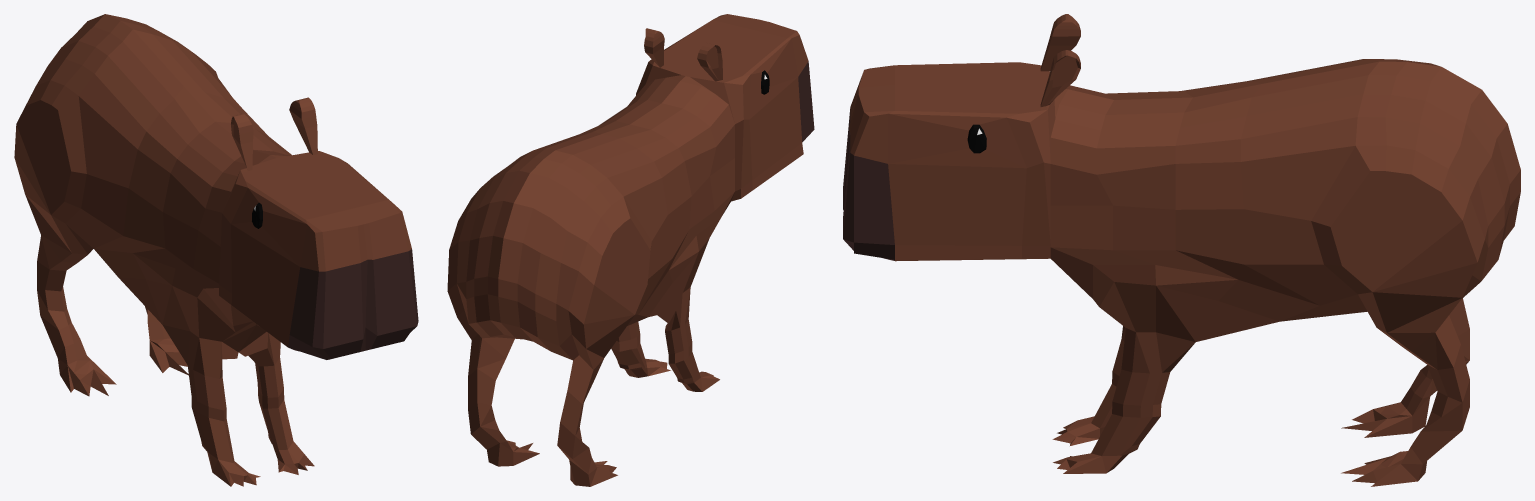
The model's file is Capybara.fbx.
3 views of the same model, side by side, from view 1: azimuth 30°, elevation 25°; view 2: azimuth 150°, elevation 25°; view 3: azimuth 270°, elevation 25° (orthographic). The views are drawn at different scales.
Parts seen in each view (by area): view 1: Cube; view 2: Cube; view 3: Cube.
Boxes of the visible parts, x1=… form: Cube: x1=14, y1=14, x2=418, y2=486; Cube: x1=447, y1=14, x2=814, y2=486; Cube: x1=843, y1=14, x2=1520, y2=486.
Bounding box in the file's own units: 84.51 × 175 × 258.
